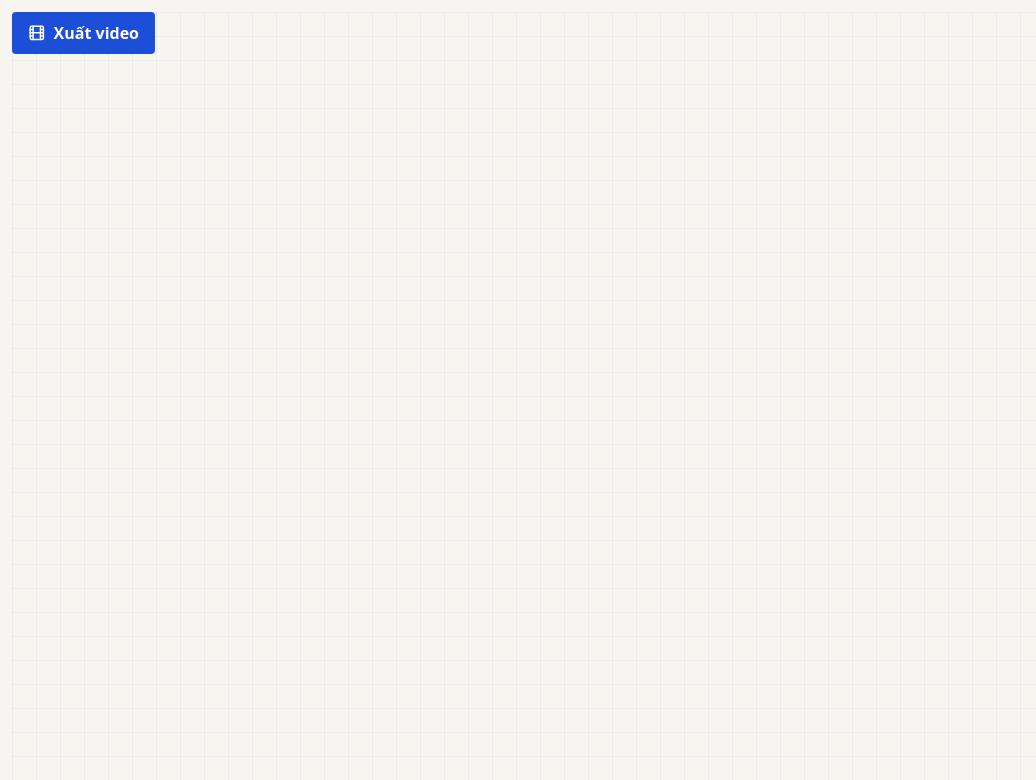
ExportControls › không có WebCodecs: ghi theo thời gian thực, báo trước thời gian chờ
Click the button "Xuất video": (84, 33) left=12, top=12, right=155, bottom=54
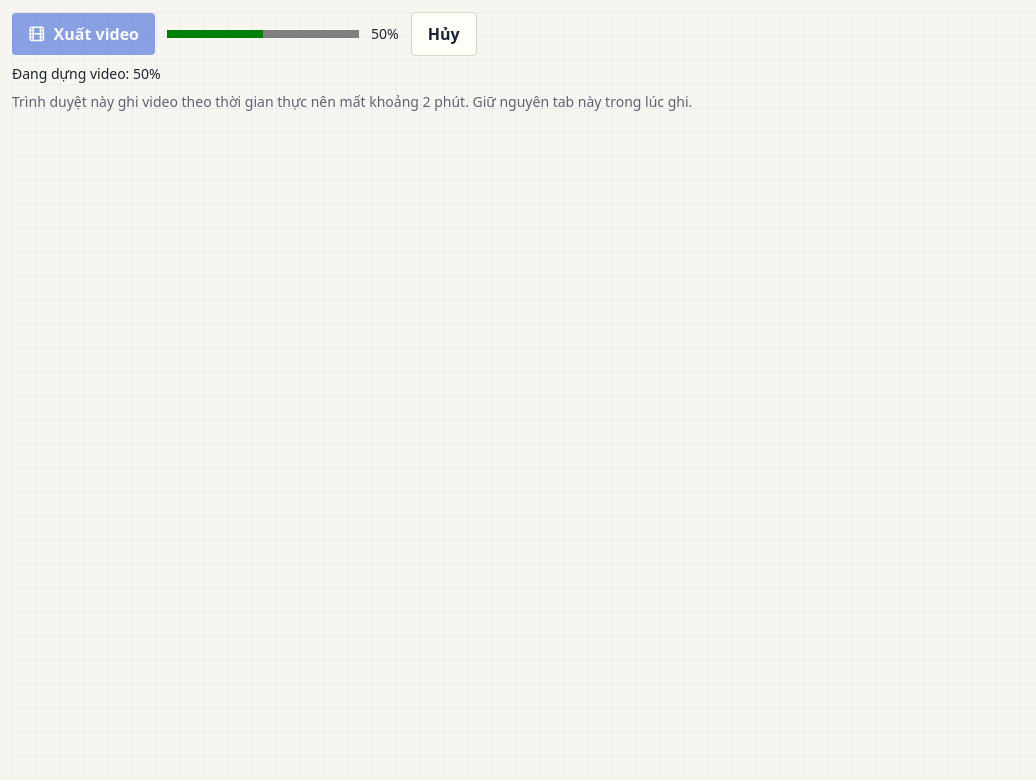
Result: the text "Trình duyệt này ghi video theo thời gian thực nên mất khoảng 2 phút." is shown at left=12, top=92, right=692, bottom=111
